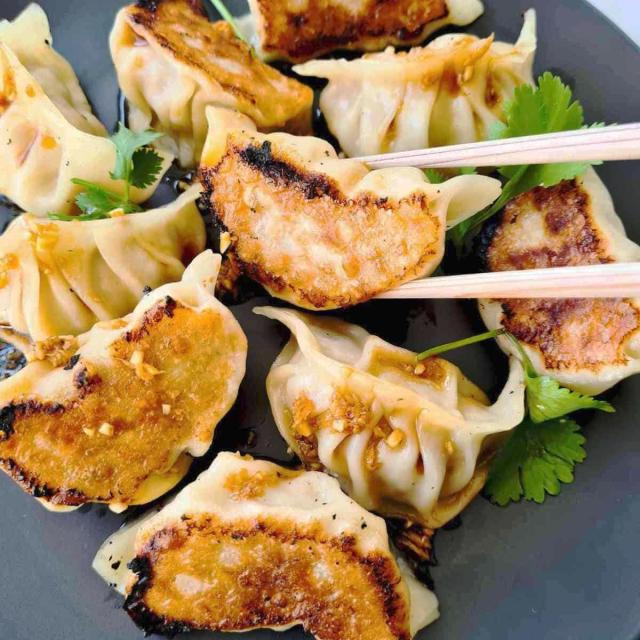fried_dumplings: (0, 255, 255, 517), (97, 450, 437, 640), (252, 305, 531, 532), (202, 104, 500, 314), (2, 4, 170, 216), (113, 0, 315, 129)
